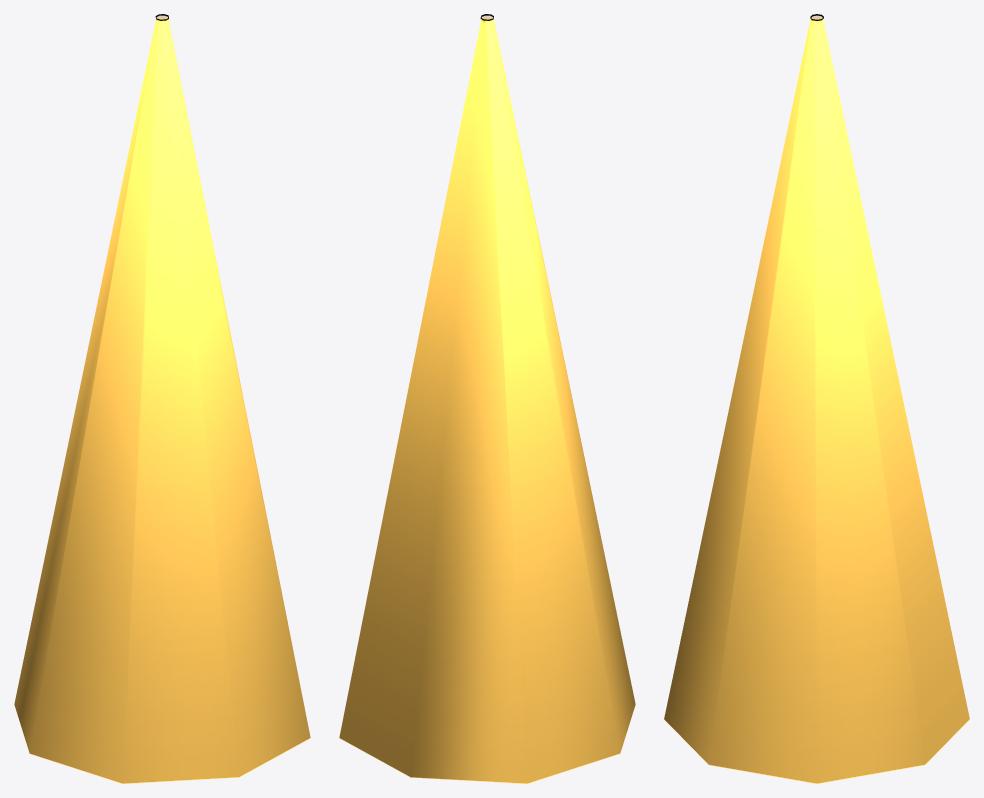
Rendered from LIT0110005.fbx.
The picture shows the model from 3 angles, left to right: view 1: azimuth 30°, elevation 25°; view 2: azimuth 150°, elevation 25°; view 3: azimuth 270°, elevation 25°; orthographic projection.
Parts seen in each view (by area): view 1: smLIT0110005; view 2: smLIT0110005; view 3: smLIT0110005.
Boxes of the visible parts, x1,y1,x2,y2 form: smLIT0110005: (14, 14, 310, 783); smLIT0110005: (339, 14, 635, 783); smLIT0110005: (664, 14, 969, 783).
Bounding box in the file's own units: 200 × 507 × 200.
Materials: 1 (1 with a texture image).
